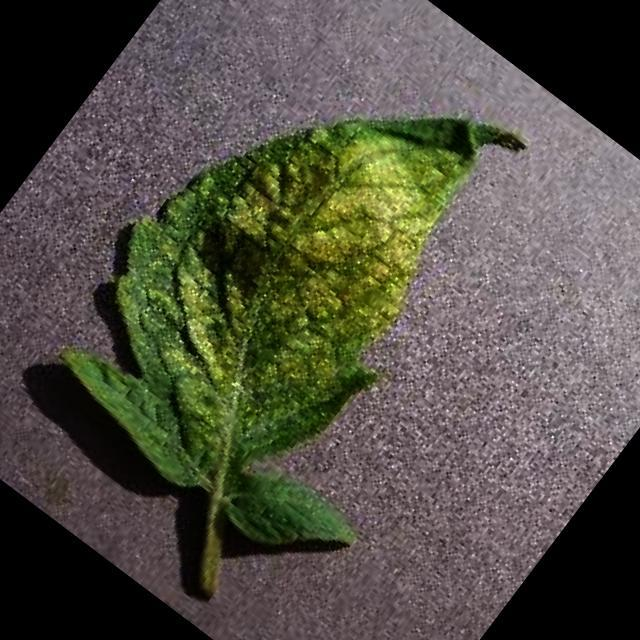Tomato spider mites leaf: (25, 0, 613, 597)
